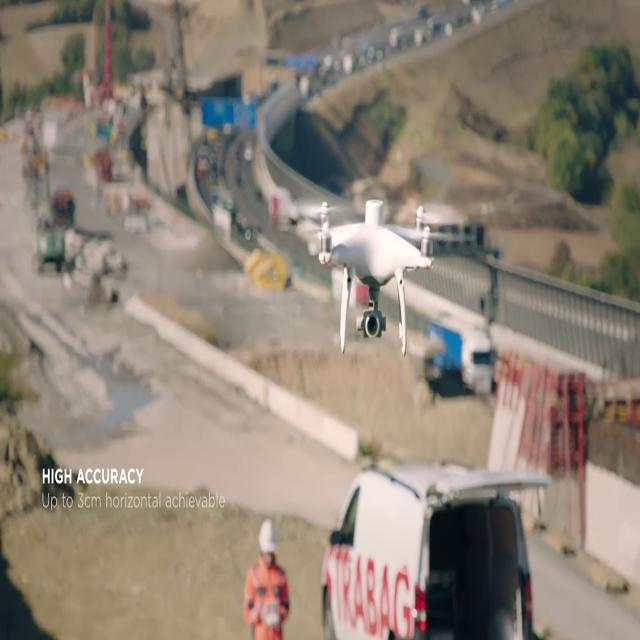drone: (288, 199, 472, 357)
